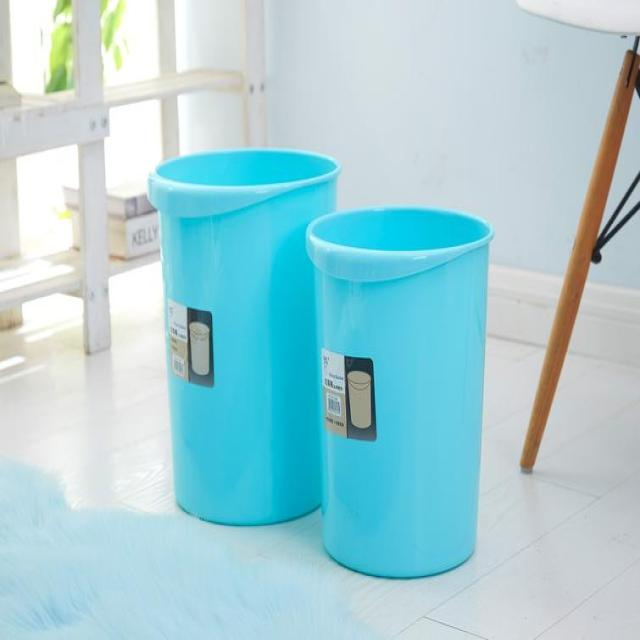dustbin: (145, 139, 341, 530), (303, 199, 500, 588)
